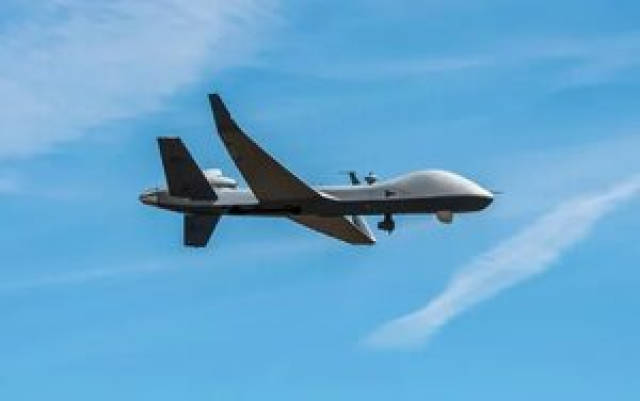military drone: (138, 92, 504, 247)
